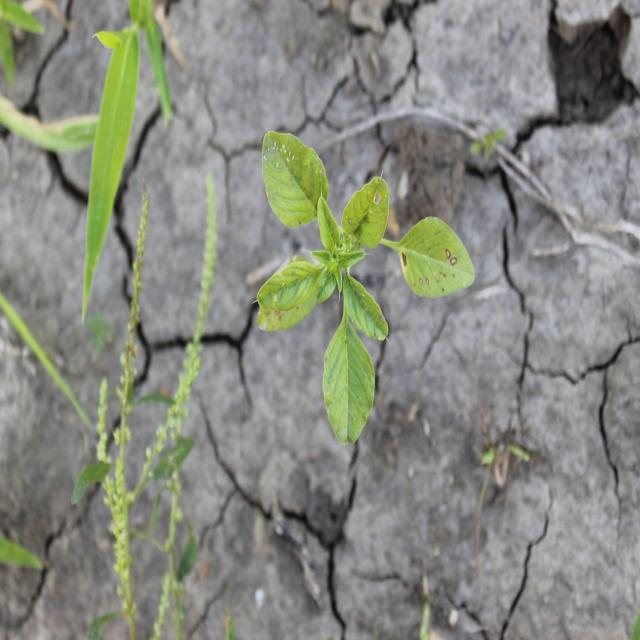PalmerAmaranth: (250, 124, 478, 453)
